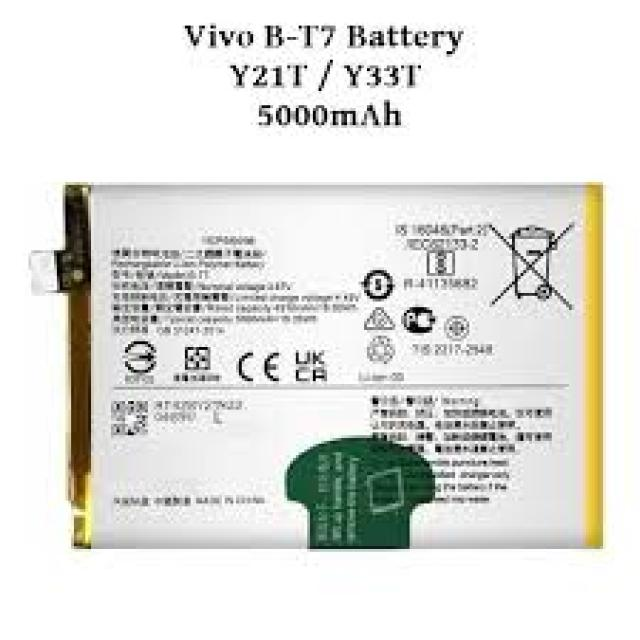Battery: (31, 185, 600, 546)
